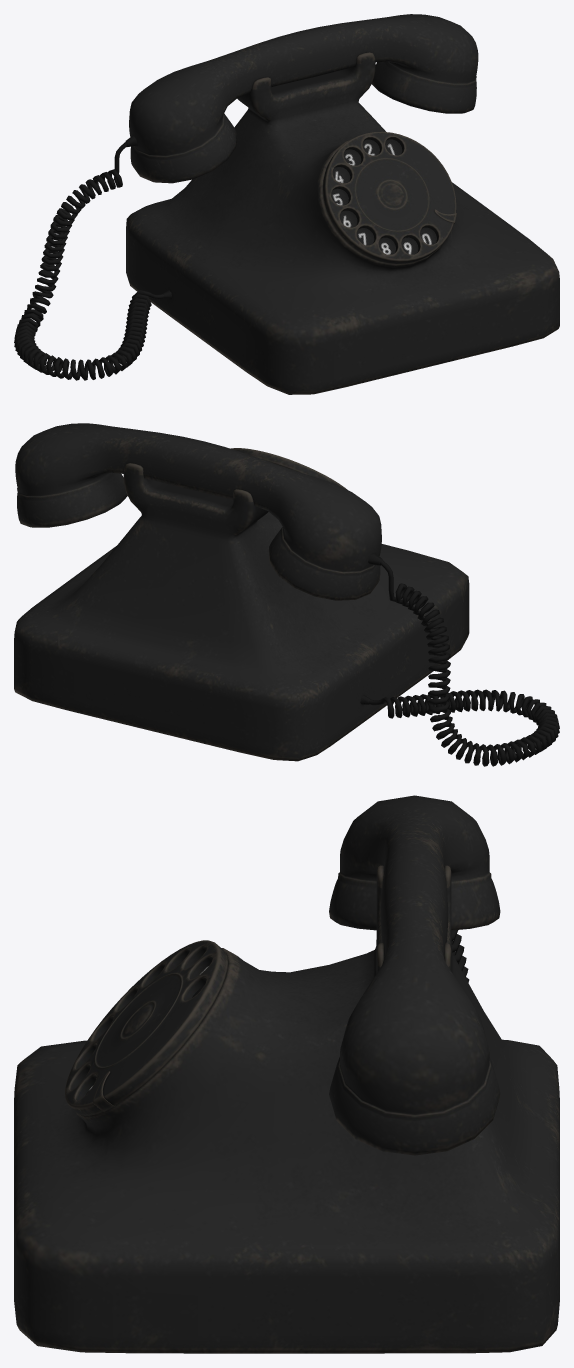
File: old_phone.glb
3 renders of one model, top to bottom at view 1: azimuth 30°, elevation 25°; view 2: azimuth 150°, elevation 25°; view 3: azimuth 270°, elevation 25°, orthographic. The views are drawn at different scales.
Visible parts, largest first — view 1: Plane; view 2: Plane; view 3: Plane.
Boxes of the visible parts, x1,y1,x2,y2 form: Plane: [14, 14, 559, 394]; Plane: [14, 423, 559, 766]; Plane: [14, 795, 559, 1353].
Bounding box in the file's own units: 294 × 143 × 188.
1 material, 1 textured.
